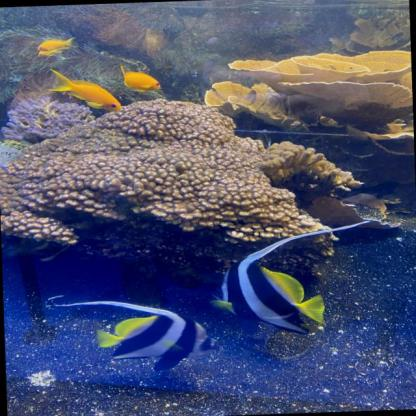fish: (196, 227, 353, 333), (64, 286, 210, 374), (49, 66, 122, 121), (119, 66, 167, 98), (33, 43, 72, 59), (34, 35, 75, 49)
